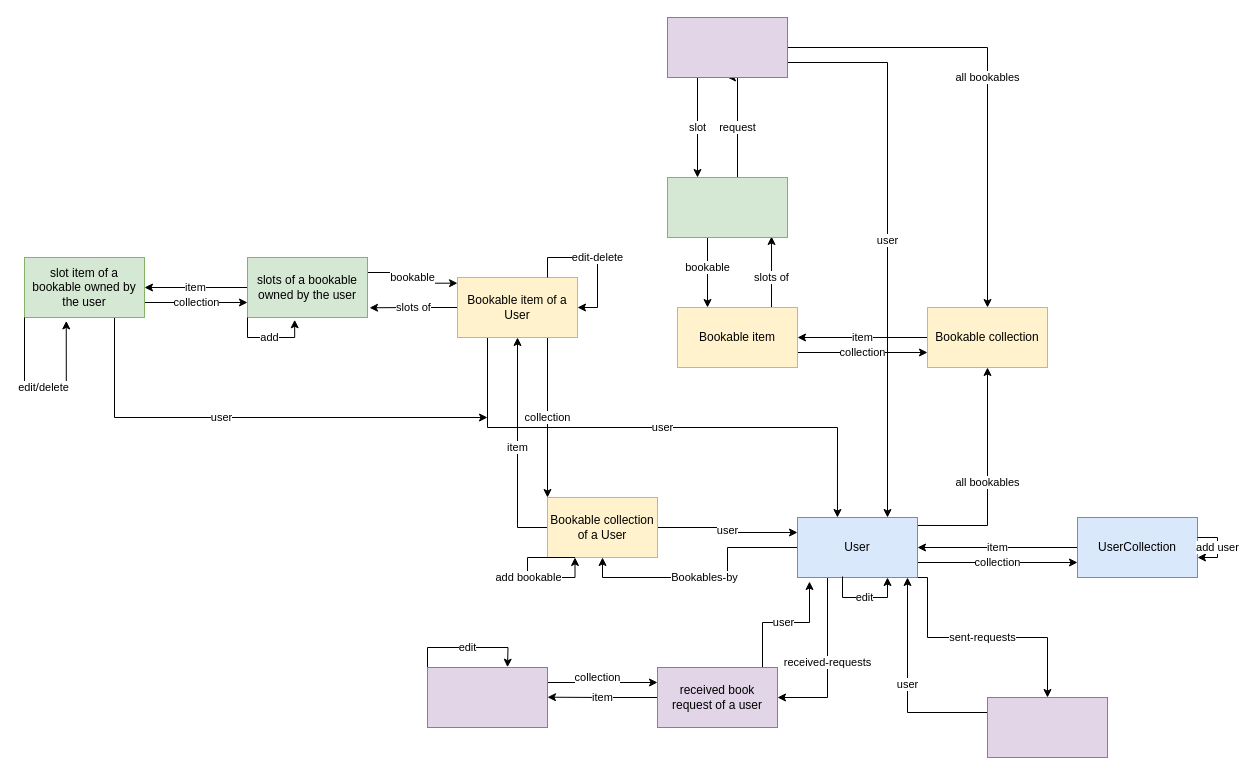
The diagram is 1256 pixels wide and 775 high, and some of its shapes have lost their labels. Here are the shapes that lost their labels. From the top down, the centre of each, then its label:
At point (727, 47): "Book request to a slot".
At point (727, 207): "Slot collection of bookable".
At point (487, 697): "book request item".
At point (1047, 727): "sent book request of a user".
